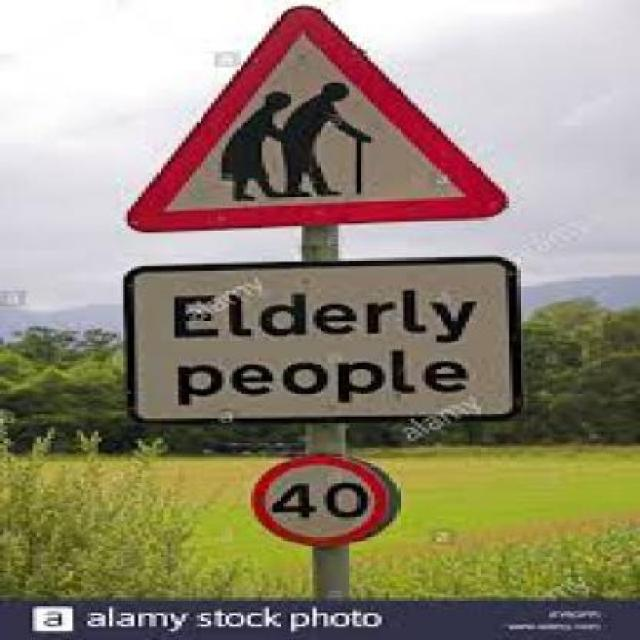forb_speed_over_40: (253, 455, 389, 543)
